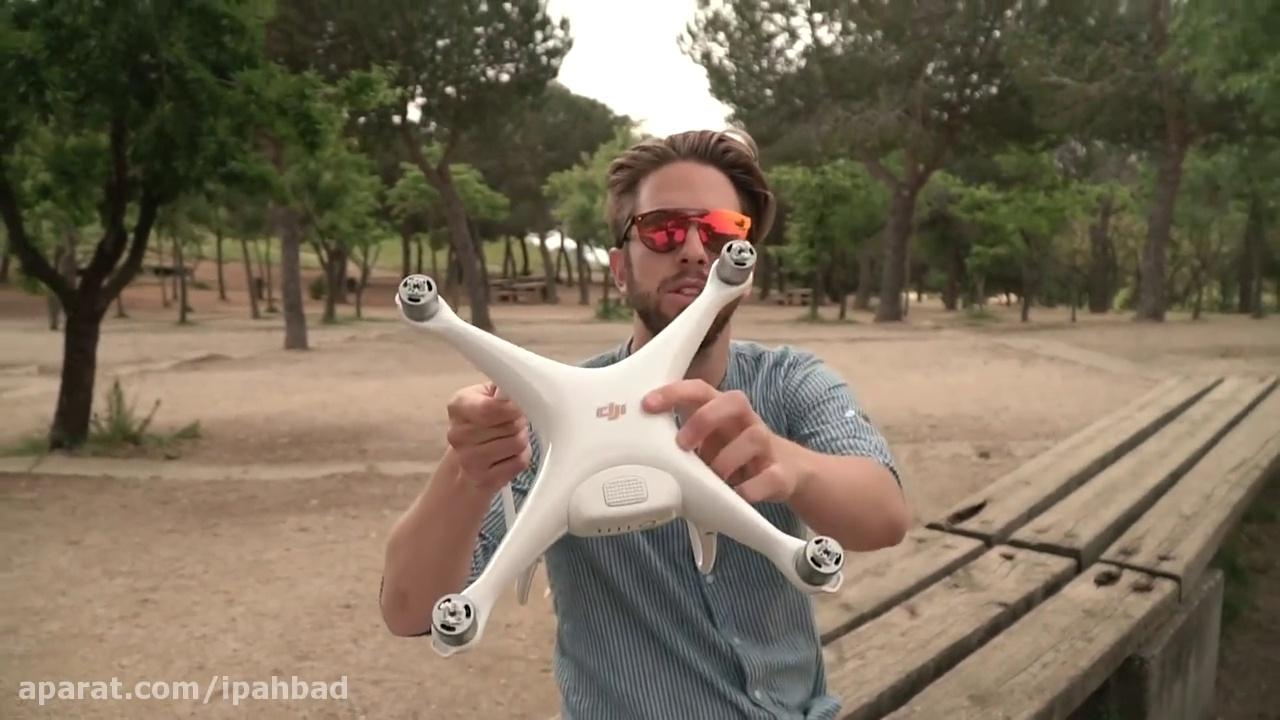drone: (390, 236, 847, 660)
